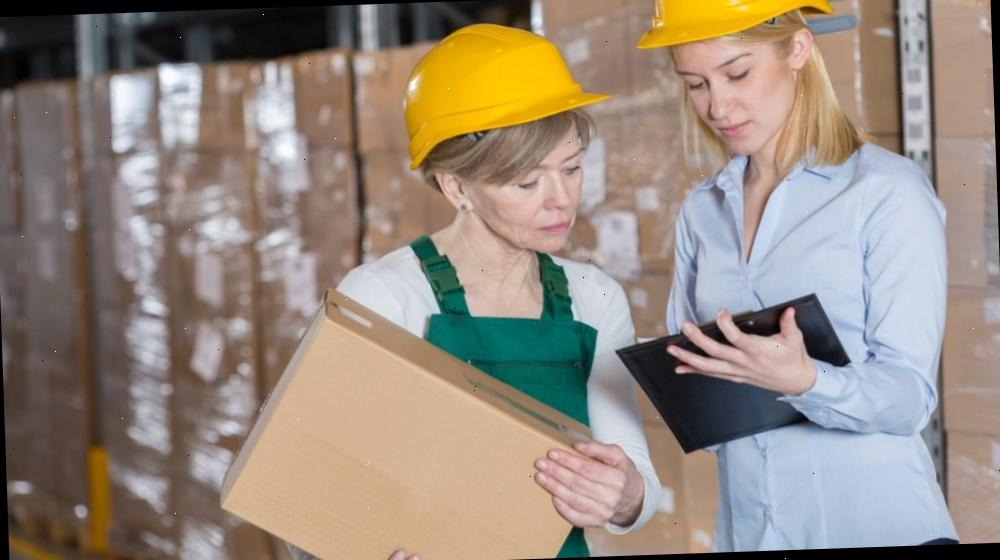helmet: (395, 17, 622, 172), (629, 0, 835, 54)
no_wear: (670, 155, 963, 554), (322, 251, 628, 560)
